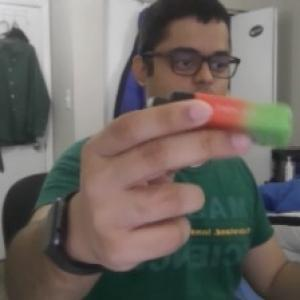Swift-E-Ciggirate: (138, 81, 298, 154)
